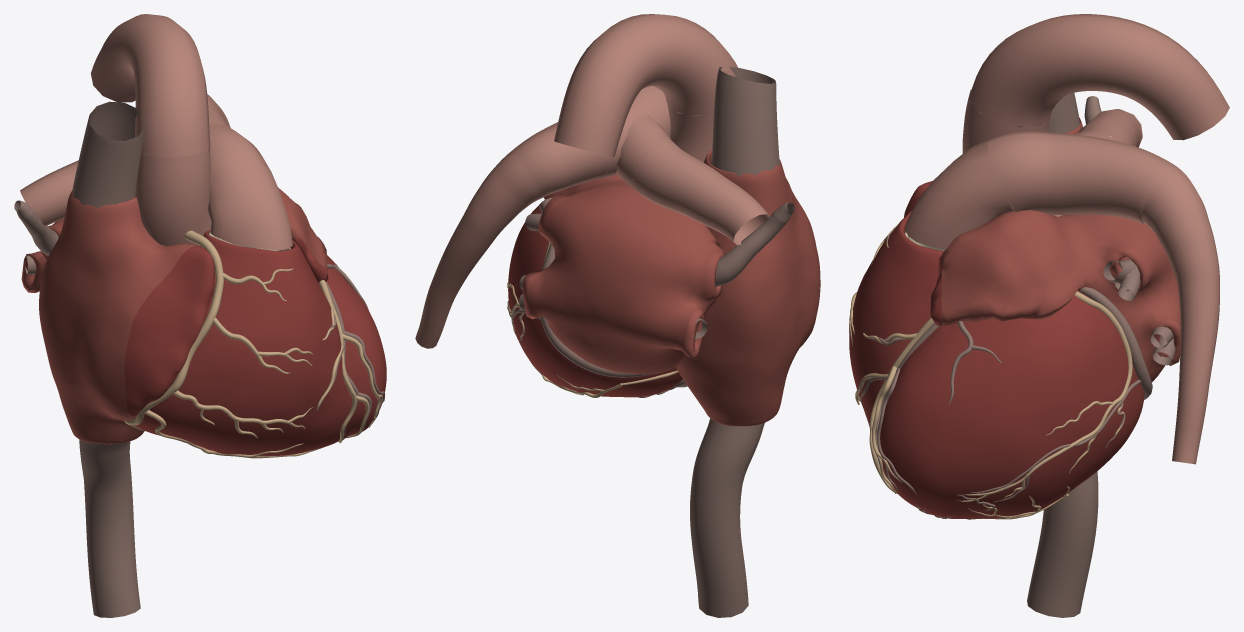
Rendered from heart.glb.
The picture shows the model from 3 angles, left to right: view 1: azimuth 30°, elevation 25°; view 2: azimuth 150°, elevation 25°; view 3: azimuth 270°, elevation 25°; orthographic projection. The views are drawn at different scales.
Visible parts, largest first — view 1: heart, atrium_r, aorta, vena_cava_inferior, pulmonary_trunk, vena_cava_superior, coronary_r, atrium_l, pulmonary_artery_r, coronary_lad, pulmonary_vein_r, cardiac_vein_great; view 2: atrium_l, atrium_r, aorta, pulmonary_artery_l, vena_cava_inferior, pulmonary_artery_r, vena_cava_superior, ventricle_l, pulmonary_trunk, pulmonary_vein_r, coronary_sinus; view 3: ventricle_l, atrium_l, aorta, heart, pulmonary_artery_l, pulmonary_trunk, vena_cava_inferior, cardiac_vein_great, coronary_circumflex, coronary_lad, pulmonary_vein_l, pulmonary_artery_r (+2 smaller).
Boxes of the visible parts, x1,y1,x2,y2 form: heart: [124, 238, 386, 456]; atrium_r: [39, 190, 198, 444]; aorta: [90, 14, 211, 245]; vena_cava_inferior: [79, 439, 140, 617]; pulmonary_trunk: [198, 106, 292, 249]; vena_cava_superior: [72, 101, 144, 207]; coronary_r: [124, 230, 324, 458]; atrium_l: [21, 187, 327, 292]; pulmonary_artery_r: [20, 160, 78, 225]; coronary_lad: [316, 280, 382, 443]; pulmonary_vein_r: [14, 200, 58, 276]; cardiac_vein_great: [319, 263, 385, 439]; atrium_l: [522, 174, 724, 374]; atrium_r: [676, 150, 820, 426]; aorta: [554, 14, 737, 162]; pulmonary_artery_l: [415, 122, 611, 348]; vena_cava_inferior: [690, 418, 764, 617]; pulmonary_artery_r: [633, 142, 770, 245]; vena_cava_superior: [711, 66, 779, 176]; ventricle_l: [508, 200, 682, 397]; pulmonary_trunk: [600, 85, 697, 190]; pulmonary_vein_r: [693, 202, 794, 338]; coronary_sinus: [540, 316, 651, 377]; ventricle_l: [941, 291, 1144, 518]; atrium_l: [941, 209, 1180, 381]; aorta: [962, 14, 1229, 216]; heart: [849, 181, 941, 516]; pulmonary_artery_l: [1098, 141, 1219, 464]; pulmonary_trunk: [904, 130, 1116, 249]; vena_cava_inferior: [1027, 471, 1098, 617]; cardiac_vein_great: [860, 287, 1146, 495]; coronary_circumflex: [957, 291, 1132, 501]; coronary_lad: [855, 317, 934, 493]; pulmonary_vein_l: [1103, 259, 1175, 365]; pulmonary_artery_r: [1078, 109, 1142, 147].
Bounding box in the file's own units: 0.135 × 0.2264 × 0.1243.
